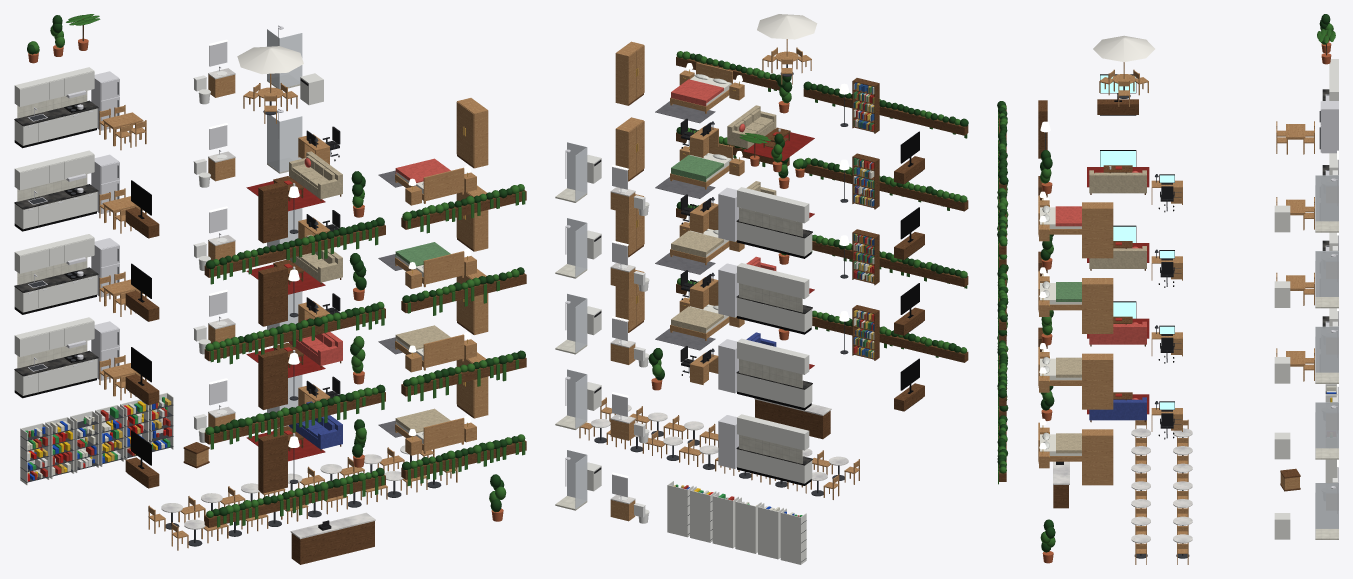
File: i_eco_apartments.gltf
3 renders of one model, left to right at view 1: azimuth 30°, elevation 25°; view 2: azimuth 150°, elevation 25°; view 3: azimuth 270°, elevation 25°, orthographic. The views are drawn at different scales.
Parts seen in each view (by area): view 1: I_eco_apartments; view 2: I_eco_apartments; view 3: I_eco_apartments.
Part boxes in pixels (x1=…): I_eco_apartments: x1=14, y1=14, x2=526, y2=564; I_eco_apartments: x1=555, y1=14, x2=968, y2=564; I_eco_apartments: x1=997, y1=14, x2=1338, y2=564.
Bounding box in the file's own units: 13.36 × 18.65 × 13.1.
41 materials, 14 textured.
